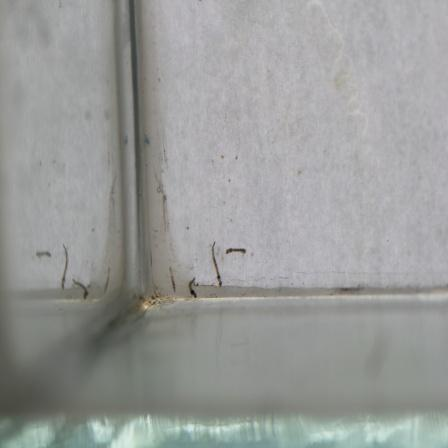Jentik-Nyamuk: (207, 239, 224, 287), (185, 273, 200, 301), (223, 243, 248, 258)
